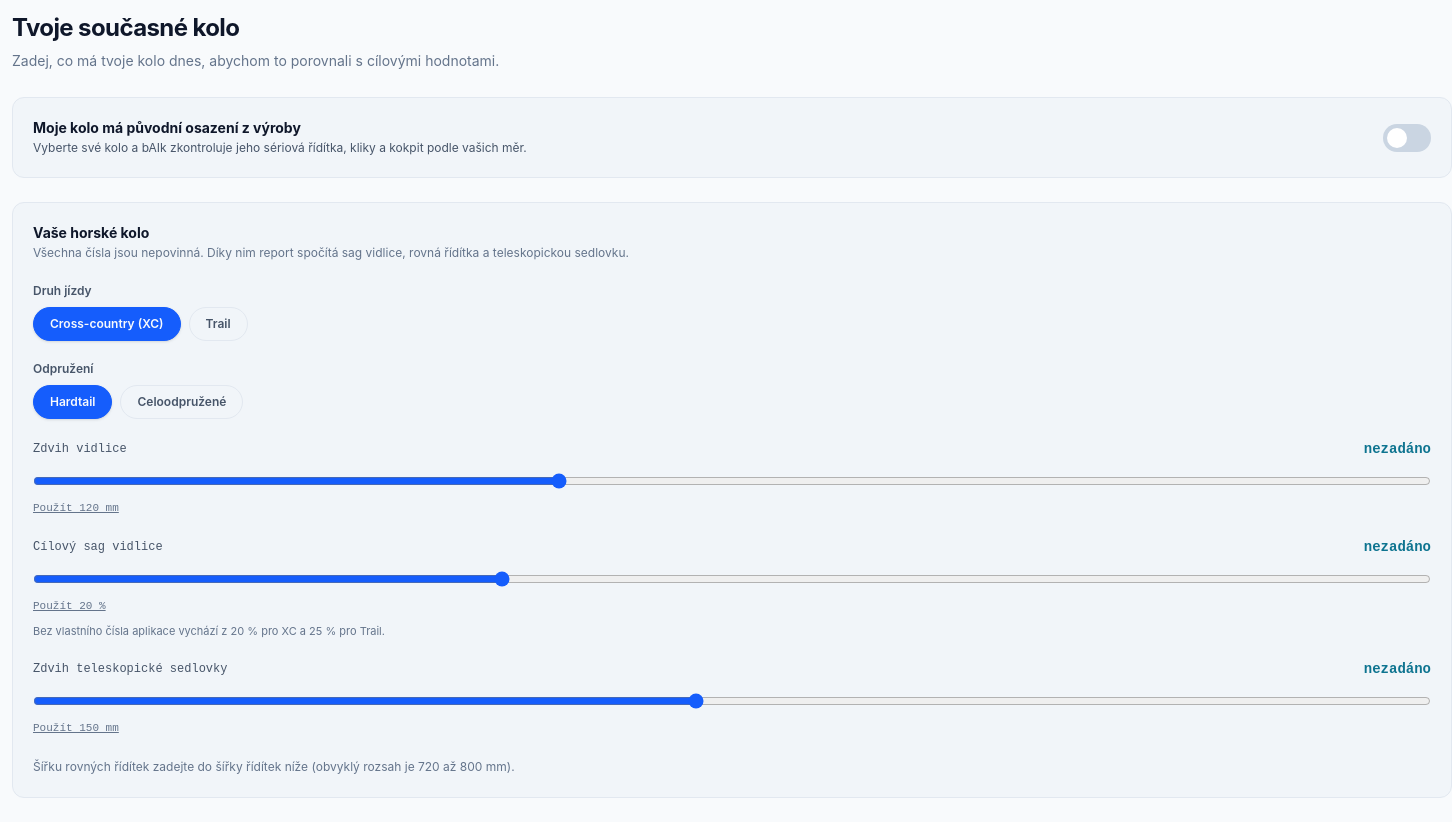
Scenario: MTB setup in the wizard (cs) › should change the kind, the suspension and the numbers, and clear a number again
Click the button "Trail" at (218, 324), box [189, 307, 248, 341]
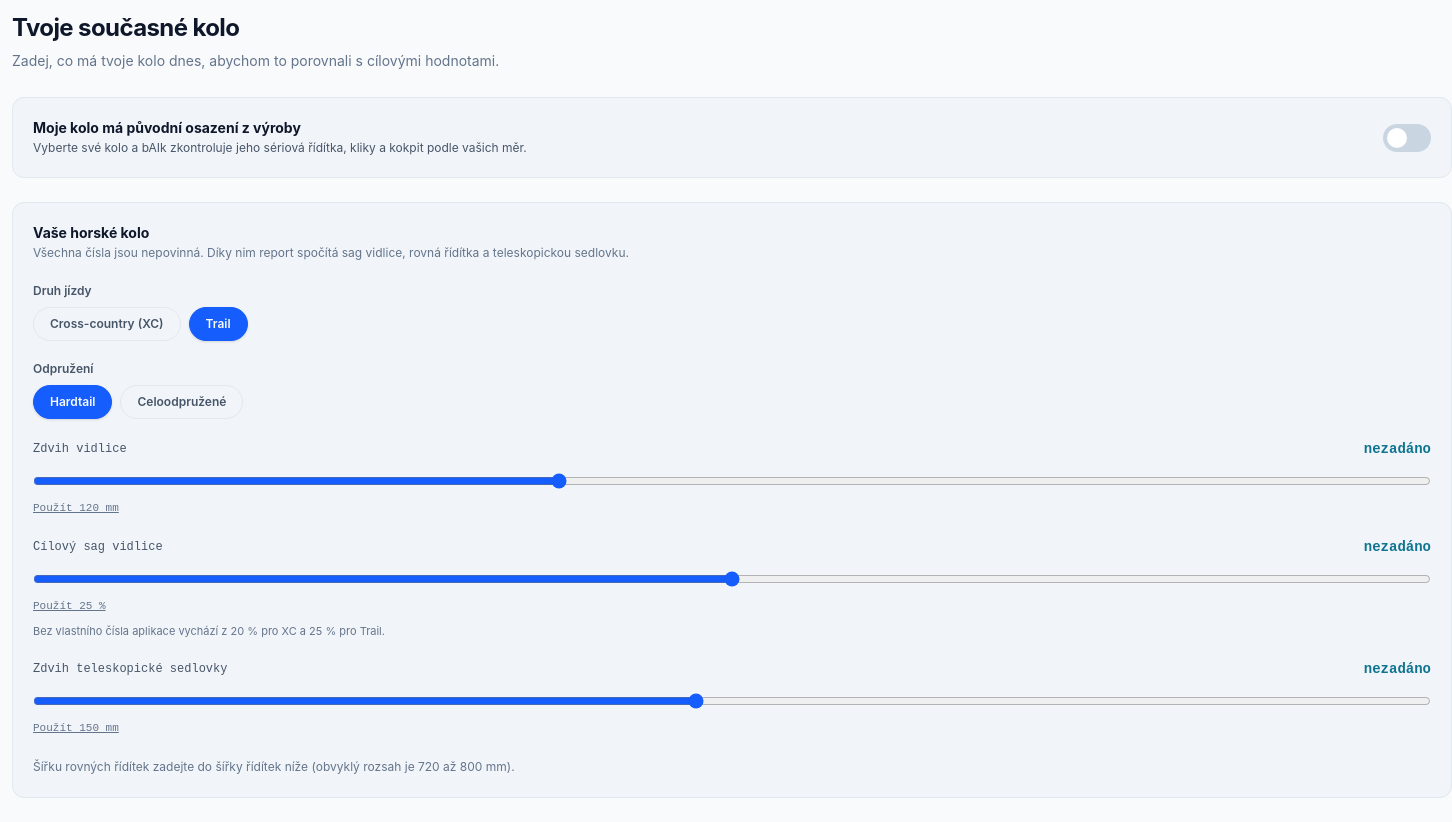
Check: the button "Trail" is pressed, box [189, 307, 248, 341]
Click the button "Celoodpružené" at (182, 402), box [120, 385, 243, 419]
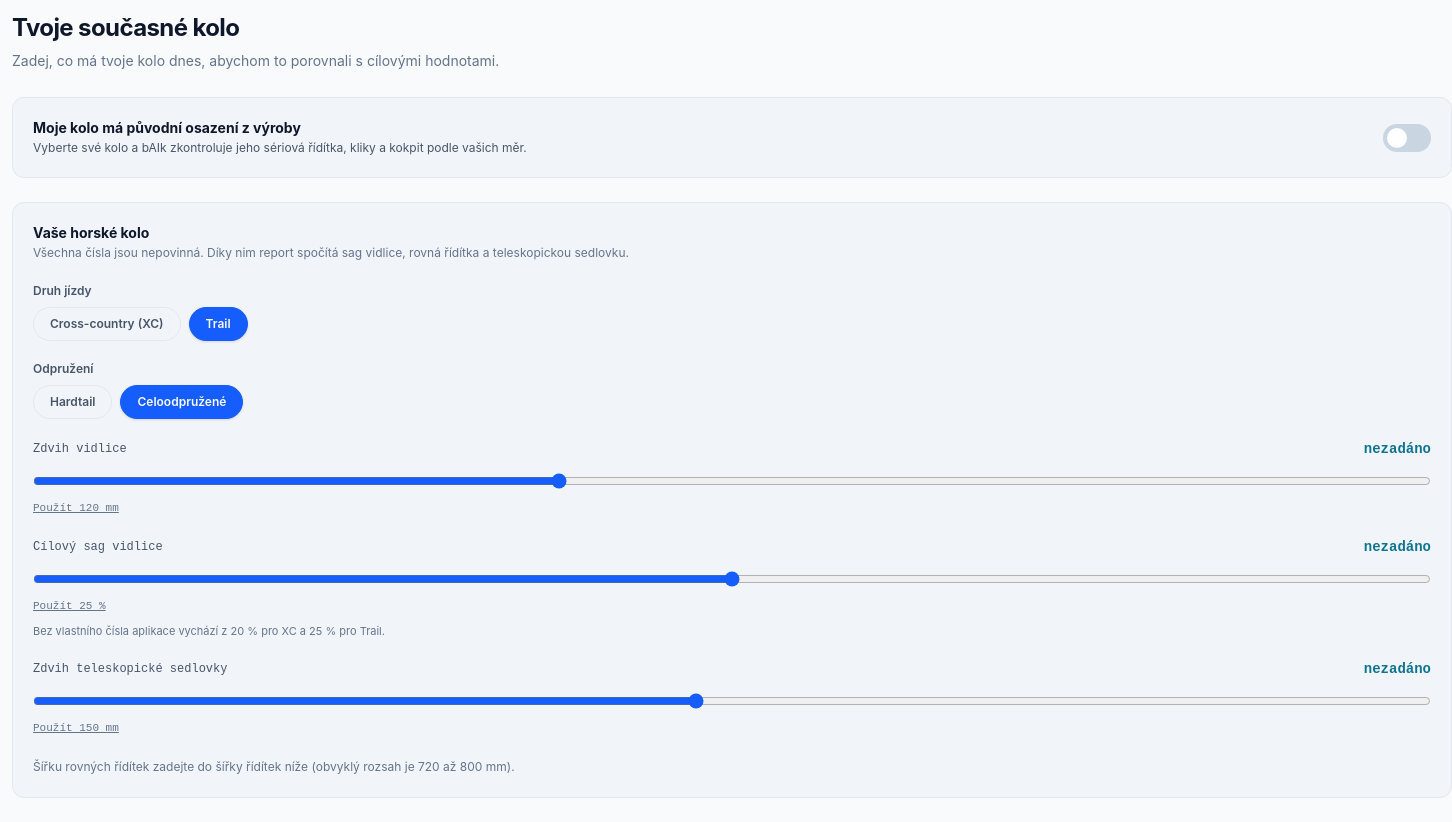
Check: the element with test id "mtb-setup" shows "nezadáno", box [1364, 441, 1431, 457]
Check: the button "Celoodpružené" is pressed, box [120, 385, 243, 419]
Set the slider labelled "Zdvih vidlice" to "140" at (732, 481), box [33, 477, 1431, 485]
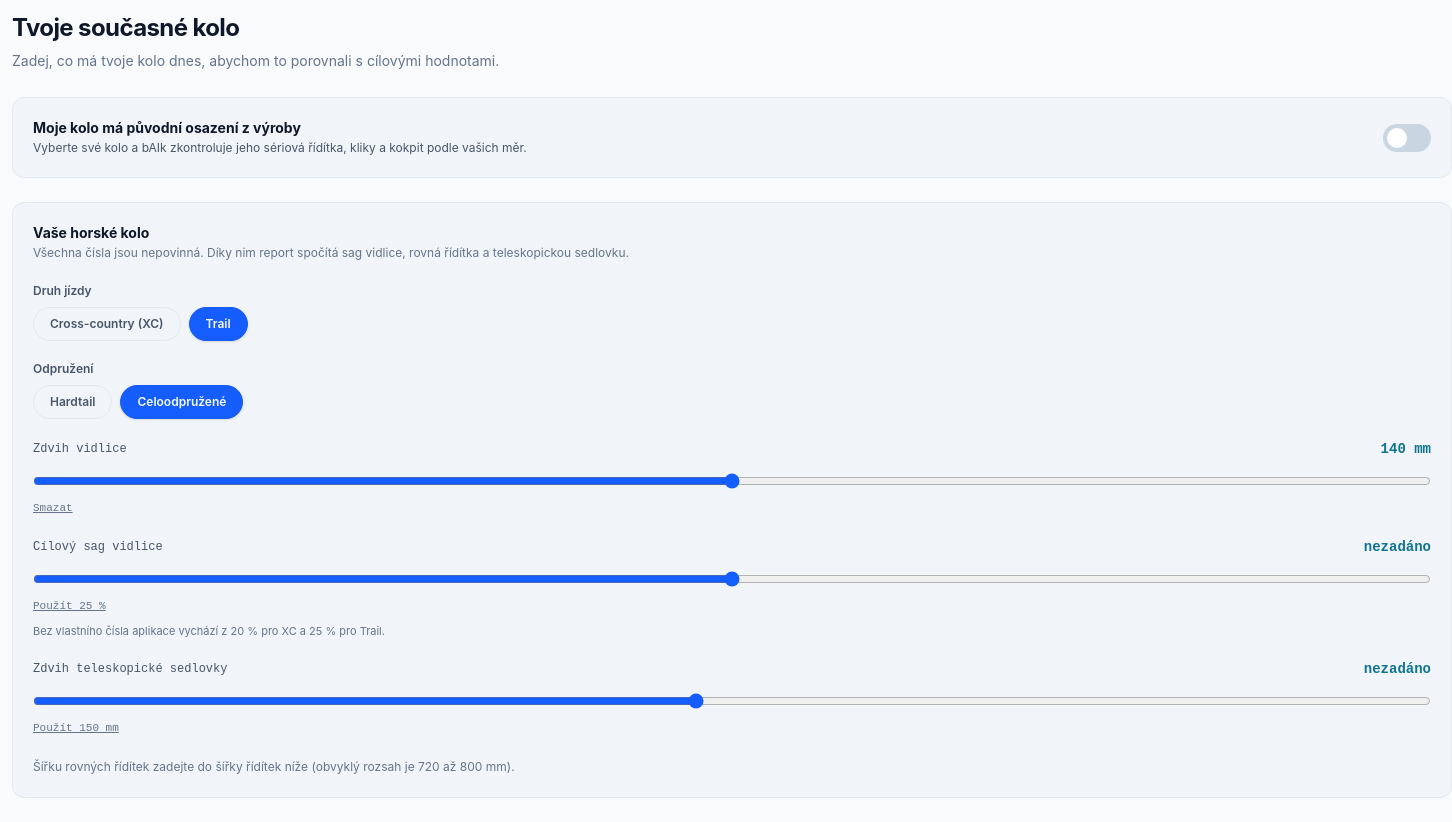
Check: the element with test id "mtb-setup" shows "140 mm", box [1381, 441, 1431, 457]
Click the button "Smazat" at (53, 508), box [33, 500, 73, 516]
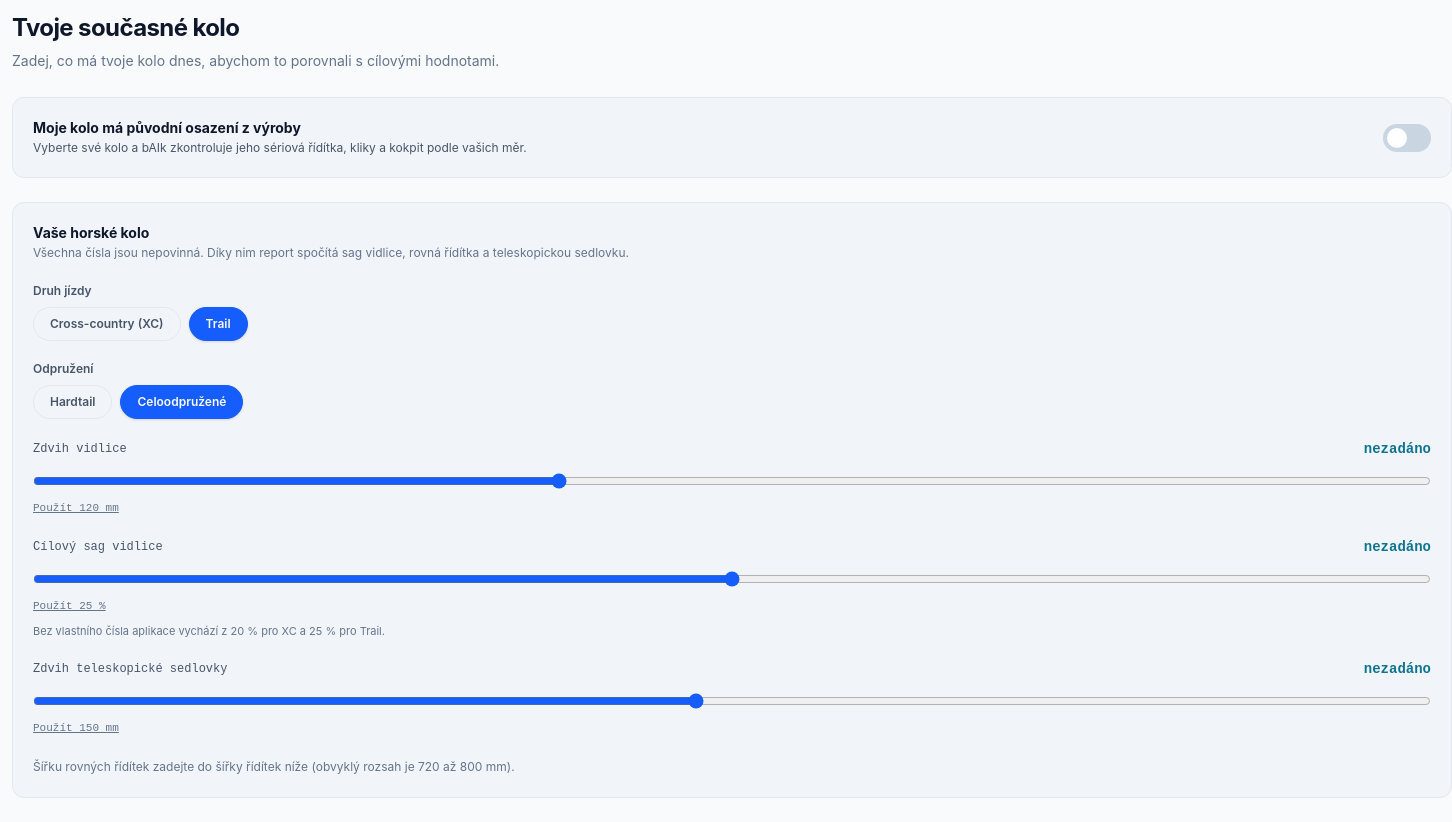
Check: the element with test id "mtb-setup" no longer shows "140 mm"
